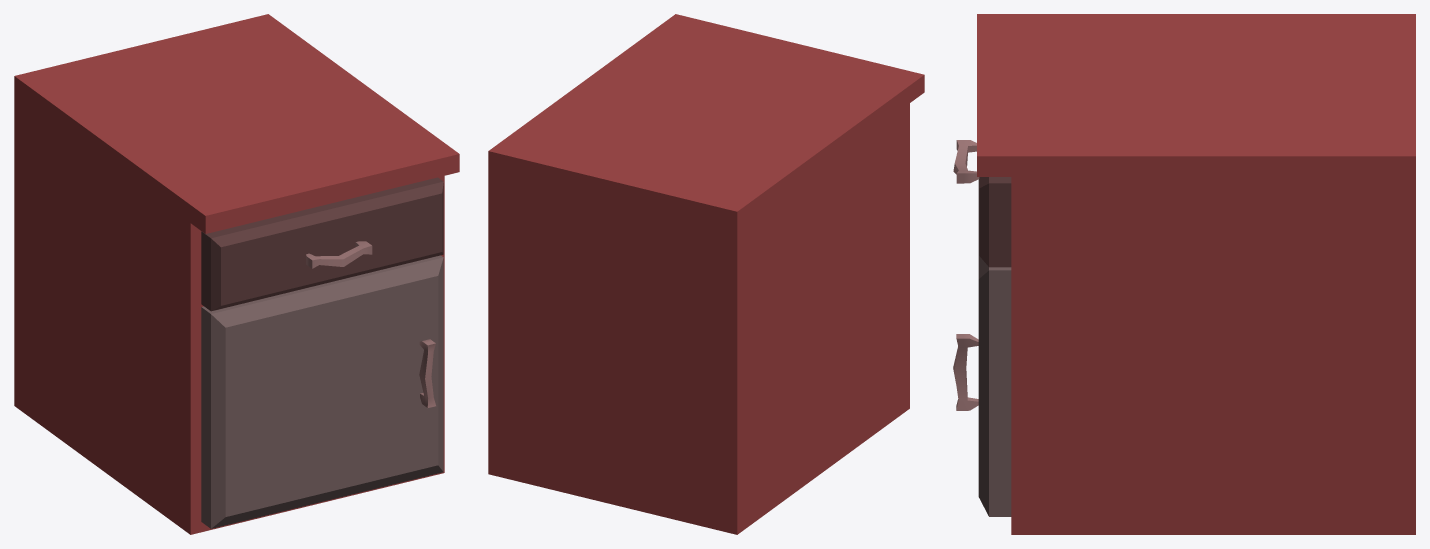
The model's file is counter_2_low.fbx.
3 renders of one model, left to right at view 1: azimuth 30°, elevation 25°; view 2: azimuth 150°, elevation 25°; view 3: azimuth 270°, elevation 25°, orthographic. The views are drawn at different scales.
Visible parts, largest first — view 1: counter_2_base_low, counter_2_door_low, counter_2_drawer_low, counter_handle_low; view 2: counter_2_base_low; view 3: counter_2_base_low, counter_2_door_low, counter_2_drawer_low, counter_handle_low.
Part boxes in pixels (bbox=[...]): counter_2_base_low: bbox=[14, 14, 459, 534]; counter_2_door_low: bbox=[201, 255, 443, 528]; counter_2_drawer_low: bbox=[201, 177, 443, 311]; counter_handle_low: bbox=[306, 241, 435, 407]; counter_2_base_low: bbox=[488, 14, 924, 534]; counter_2_base_low: bbox=[977, 14, 1415, 534]; counter_2_door_low: bbox=[978, 179, 1011, 516]; counter_2_drawer_low: bbox=[979, 177, 1011, 267]; counter_handle_low: bbox=[953, 140, 979, 410].
Size of the model in its own units: 5.03 by 6.25 by 6.92.
